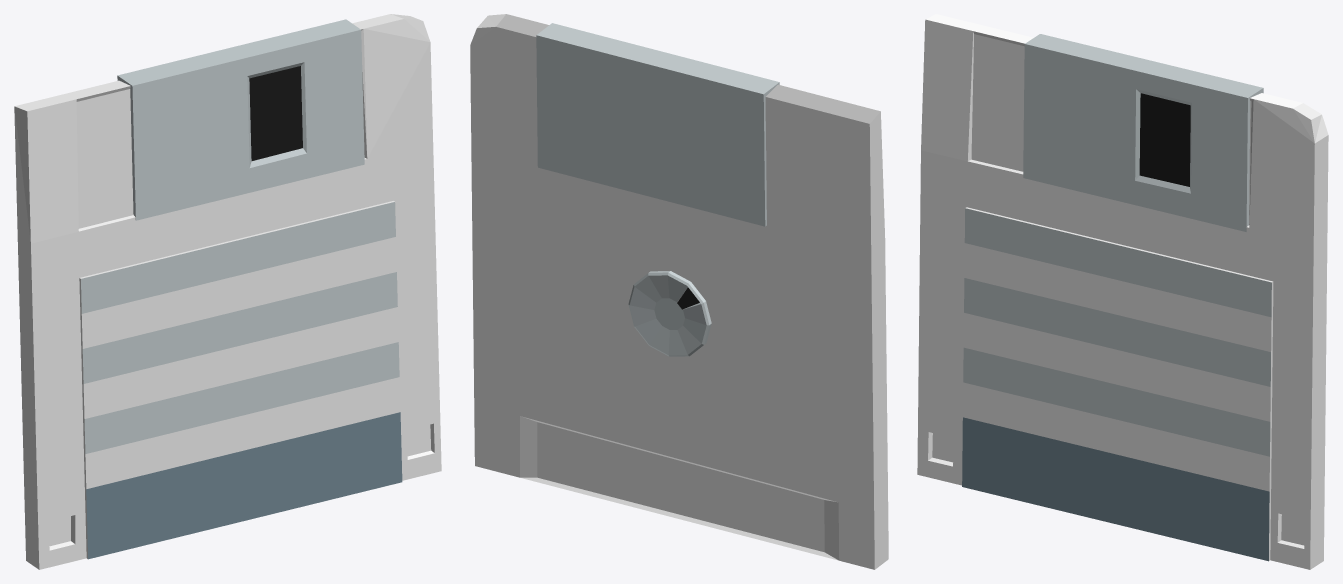
File: Floppy-Disk.glb
The picture shows the model from 3 angles, left to right: view 1: azimuth 30°, elevation 25°; view 2: azimuth 150°, elevation 25°; view 3: azimuth 330°, elevation 25°; orthographic projection.
Visible parts, largest first — view 1: group722622459; view 2: group722622459; view 3: group722622459.
Boxes of the visible parts, x1=… form: group722622459: x1=14, y1=14, x2=441, y2=569; group722622459: x1=470, y1=14, x2=888, y2=569; group722622459: x1=917, y1=14, x2=1328, y2=569.
Bounding box in the file's own units: 3.09 × 3.34 × 0.3595.
